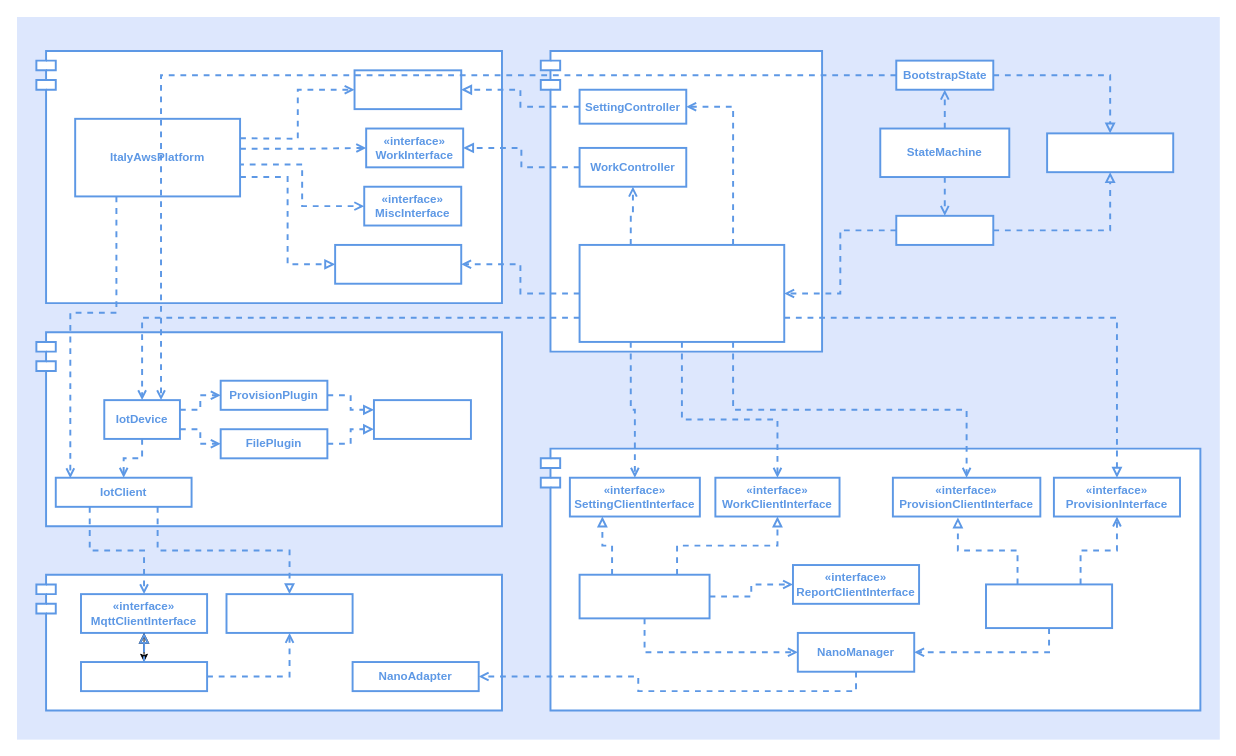
The diagram is 1236 pixels wide and 756 high, and some of its shapes have lost their labels. Each missing label, with the box of its shape:
BusinessClient: (578, 573, 710, 619)
BusinessManager: (578, 243, 785, 342)
MosquittoAdapter: (80, 661, 208, 692)
ProvisionClient: (985, 583, 1113, 629)
Wr210eMower: (895, 214, 994, 245)
«interface» MqttClientEvents: (225, 593, 353, 633)
«interface» PluginInterface: (372, 399, 471, 439)
«interface» ReportInterface: (334, 243, 462, 284)
«interface» SettingInterface: (353, 69, 462, 110)
«interface» StateInterface: (1046, 132, 1174, 173)
